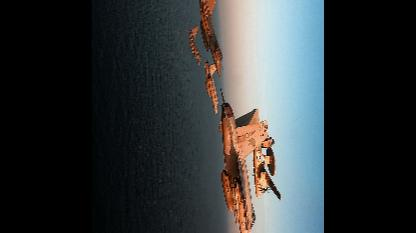C5: (252, 137, 282, 200)
F15: (218, 87, 269, 232), (204, 58, 219, 116)
RQ4: (199, 0, 224, 78), (190, 25, 202, 66)
